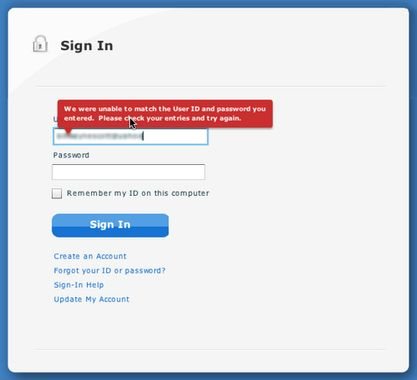error_message: (62, 104, 267, 123)
